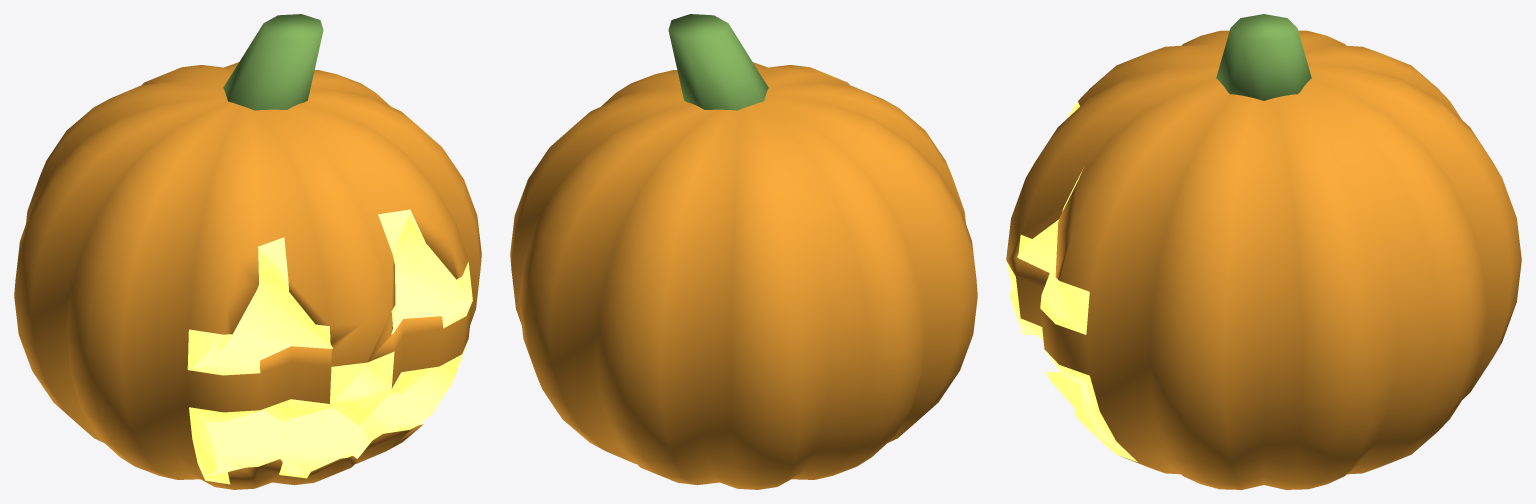
Rendered from Mysterious_Pumpkin.glb.
The picture shows the model from 3 angles, left to right: view 1: azimuth 30°, elevation 25°; view 2: azimuth 150°, elevation 25°; view 3: azimuth 270°, elevation 25°; orthographic projection. The views are drawn at different scales.
Parts seen in each view (by area): view 1: EeriePumpkinHead; view 2: EeriePumpkinHead; view 3: EeriePumpkinHead.
Part boxes in pixels (box(x1,y1,x2,y2)): EeriePumpkinHead: box(14, 14, 481, 489); EeriePumpkinHead: box(510, 14, 977, 489); EeriePumpkinHead: box(1006, 14, 1521, 489).
Bounding box in the file's own units: 1.25 × 1.25 × 1.3.
